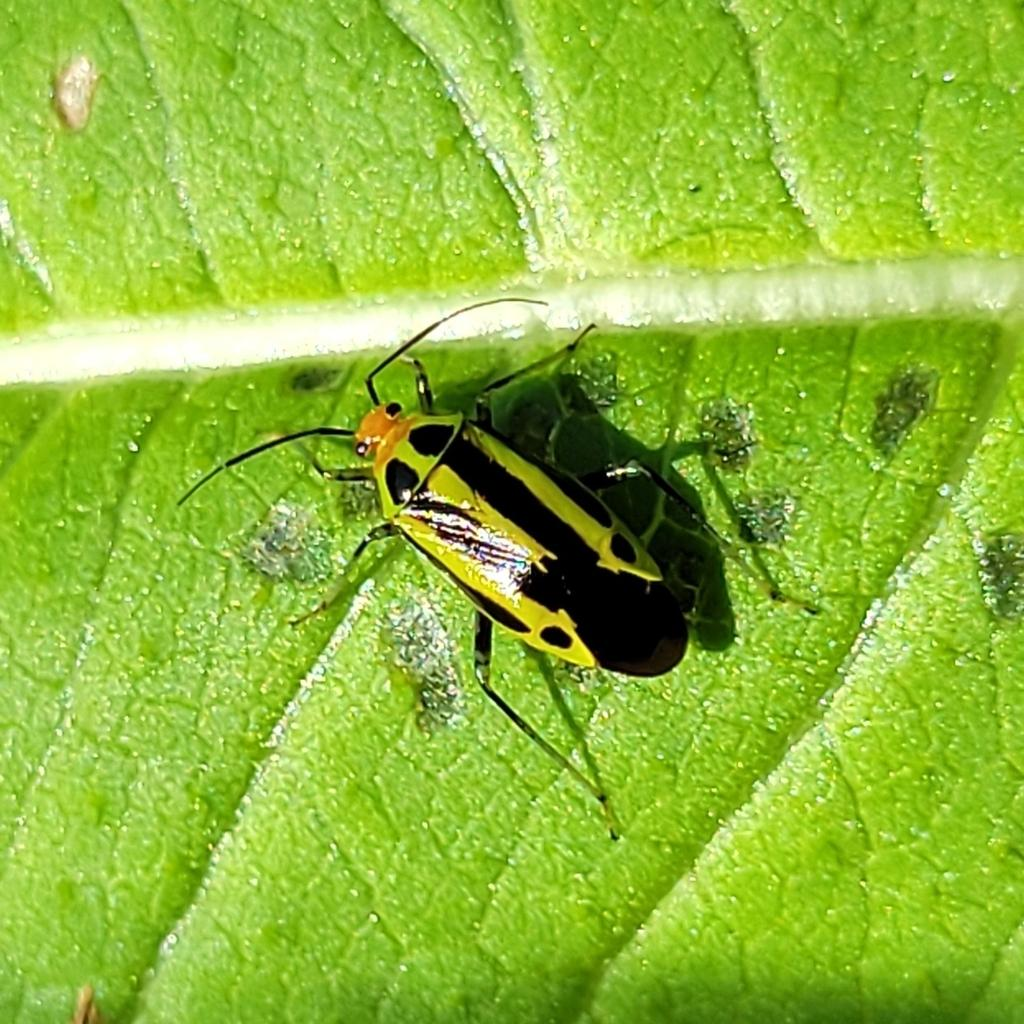plant_bugs: (101, 226, 890, 889)
